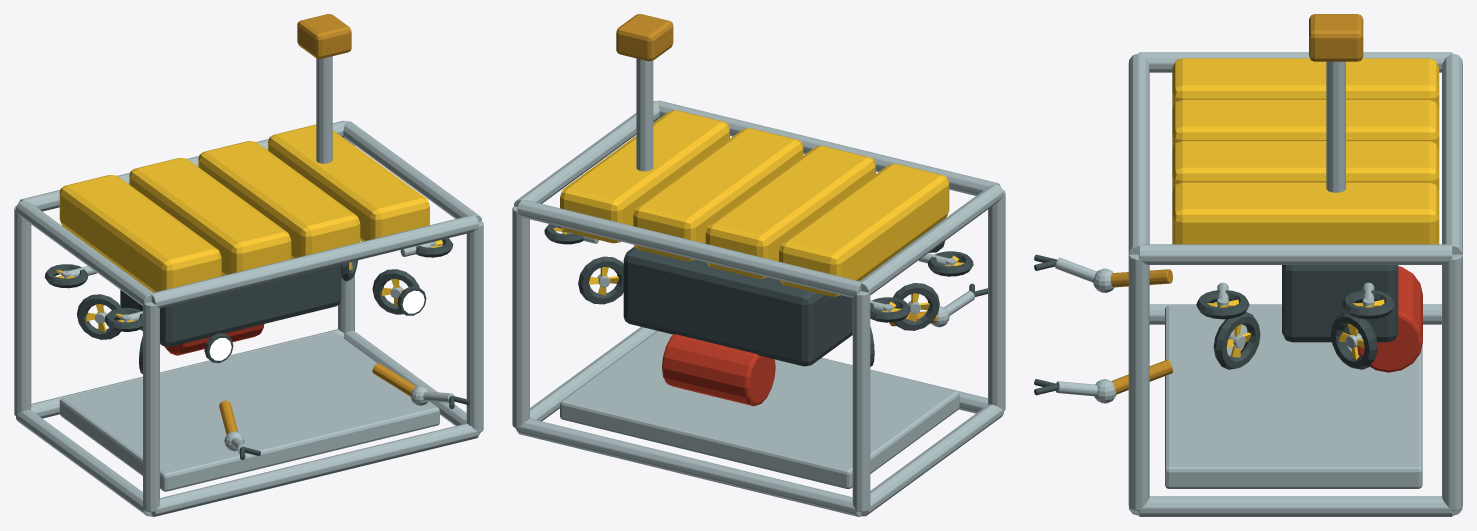
File: rov-heavy-work.glb
The picture shows the model from 3 angles, left to right: view 1: azimuth 30°, elevation 25°; view 2: azimuth 150°, elevation 25°; view 3: azimuth 270°, elevation 25°; orthographic projection. The views are drawn at different scales.
Parts seen in each view (by area): view 1: tooling_skid, float_block_-1.45, float_block_-0.48, float_block_0.48, float_block_1.45, power_module, heavy_frame_x_1_-1, heavy_frame_x_-1_-1, heavy_frame_v_1_-1, heavy_frame_v_-1_-1, heavy_frame_v_-1_1, heavy_frame_y_1_-1 (+14 smaller); view 2: tooling_skid, power_module, float_block_-1.45, float_block_-0.48, float_block_0.48, float_block_1.45, heavy_frame_x_1_1, heavy_frame_x_-1_1, hydraulic_pack, heavy_frame_v_-1_1, heavy_frame_v_1_1, heavy_frame_v_-1_-1 (+12 smaller); view 3: tooling_skid, float_block_1.45, float_block_0.48, float_block_-0.48, float_block_-1.45, power_module, heavy_frame_y_1_1, heavy_frame_y_-1_1, heavy_frame_v_1_-1, heavy_frame_v_1_1, heavy_frame_x_1_1, heavy_frame_x_1_-1 (+13 smaller).
Part boxes in pixels (left/top/right/bottom): tooling_skid: left=59, top=332, right=439, bottom=491; float_block_-1.45: left=59, top=175, right=221, bottom=292; float_block_-0.48: left=129, top=158, right=291, bottom=275; float_block_0.48: left=198, top=141, right=360, bottom=258; float_block_1.45: left=268, top=124, right=429, bottom=241; power_module: left=120, top=258, right=341, bottom=346; heavy_frame_x_1_-1: left=151, top=215, right=478, bottom=308; heavy_frame_x_-1_-1: left=151, top=423, right=478, bottom=516; heavy_frame_v_1_-1: left=466, top=221, right=483, bottom=432; heavy_frame_v_-1_-1: left=143, top=302, right=159, bottom=512; heavy_frame_v_-1_1: left=14, top=206, right=31, bottom=415; heavy_frame_y_1_-1: left=16, top=200, right=152, bottom=305; tooling_skid: left=560, top=331, right=959, bottom=488; power_module: left=623, top=246, right=852, bottom=366; float_block_-1.45: left=779, top=164, right=949, bottom=296; float_block_-0.48: left=705, top=146, right=875, bottom=278; float_block_0.48: left=633, top=128, right=803, bottom=260; float_block_1.45: left=560, top=110, right=729, bottom=243; heavy_frame_x_1_1: left=517, top=200, right=861, bottom=297; heavy_frame_x_-1_1: left=517, top=418, right=861, bottom=516; hydraulic_pack: left=662, top=334, right=775, bottom=406; heavy_frame_v_-1_1: left=852, top=291, right=870, bottom=511; heavy_frame_v_1_1: left=512, top=206, right=529, bottom=428; heavy_frame_v_-1_-1: left=988, top=190, right=1005, bottom=410; tooling_skid: left=1165, top=305, right=1422, bottom=488; float_block_1.45: left=1172, top=182, right=1439, bottom=244; float_block_0.48: left=1172, top=141, right=1439, bottom=191; float_block_-0.48: left=1172, top=99, right=1439, bottom=149; float_block_-1.45: left=1172, top=58, right=1439, bottom=108; power_module: left=1282, top=265, right=1398, bottom=342; heavy_frame_y_1_1: left=1139, top=244, right=1452, bottom=264; heavy_frame_y_-1_1: left=1139, top=496, right=1452, bottom=516; heavy_frame_v_1_-1: left=1128, top=254, right=1149, bottom=510; heavy_frame_v_1_1: left=1442, top=254, right=1462, bottom=510; heavy_frame_x_1_1: left=1442, top=53, right=1462, bottom=254; heavy_frame_x_1_-1: left=1129, top=53, right=1149, bottom=254.
Size of the model in its own units: 4.77 by 4.94 by 4.24.
